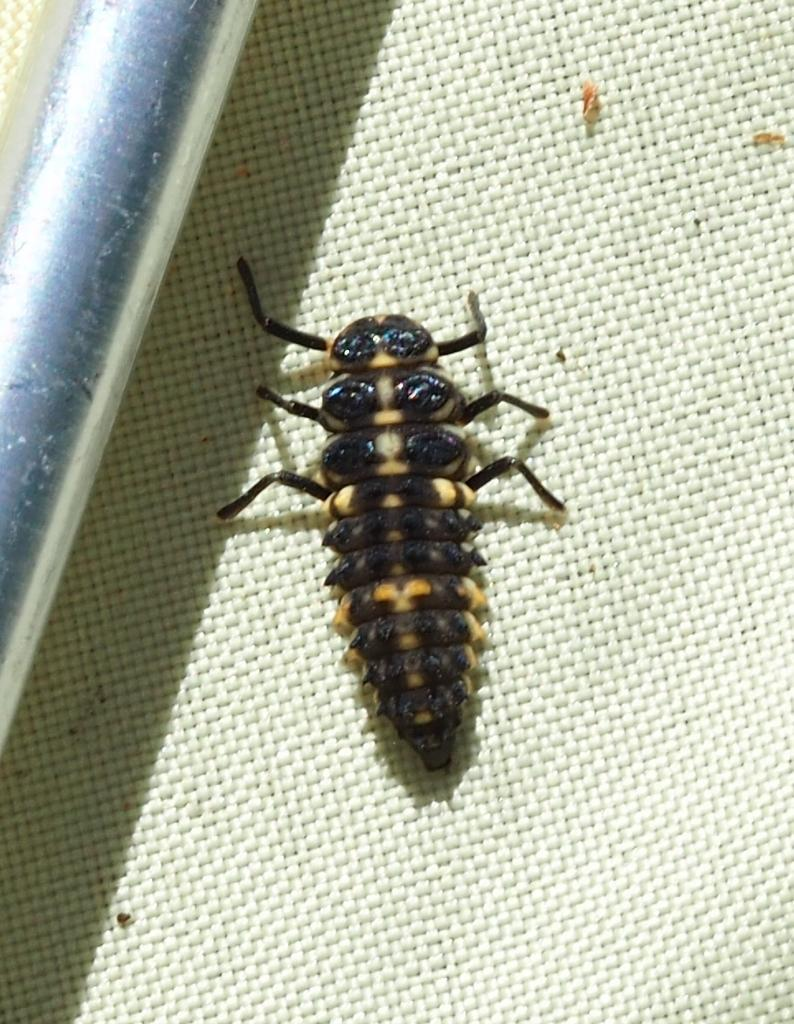ladybug: (216, 259, 569, 776)
